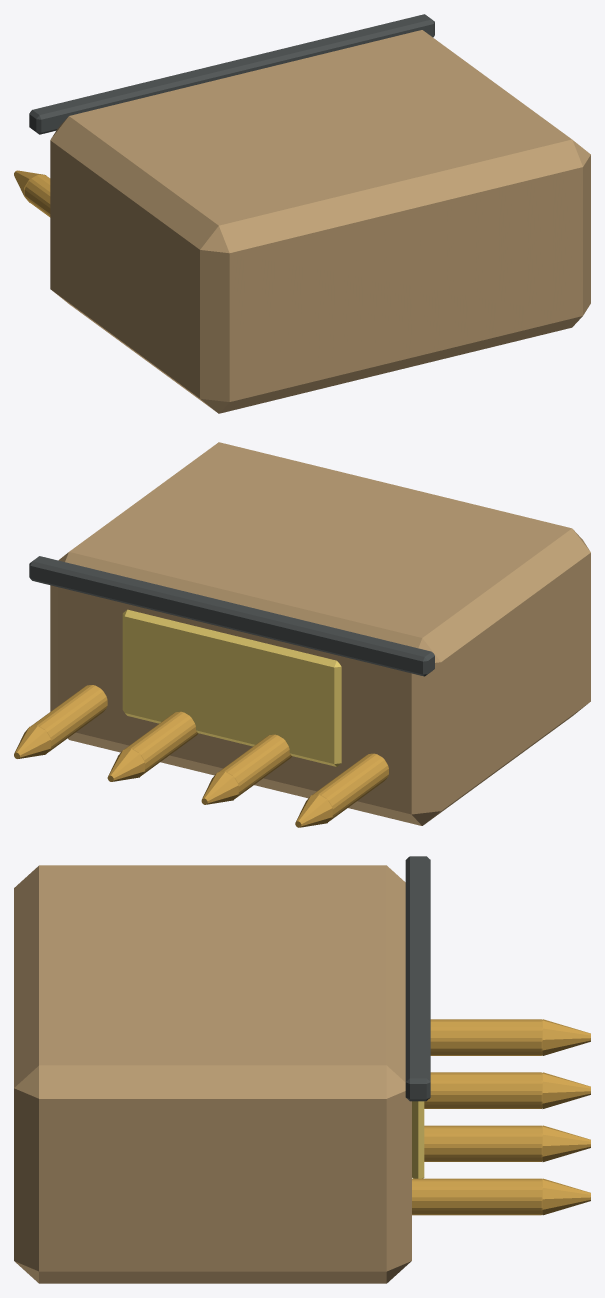
Rendered from item_ammo_standard.glb.
3 renders of one model, top to bottom at view 1: azimuth 30°, elevation 25°; view 2: azimuth 150°, elevation 25°; view 3: azimuth 270°, elevation 25°, orthographic. The views are drawn at different scales.
Parts seen in each view (by area): view 1: item_ammo_standard; view 2: item_ammo_standard; view 3: item_ammo_standard.
Part boxes in pixels (x1,y1,x2,y2): item_ammo_standard: [14, 14, 590, 413]; item_ammo_standard: [14, 442, 590, 827]; item_ammo_standard: [14, 856, 590, 1283].
Size of the model in its own units: 0.255 by 0.115 by 0.2755.
